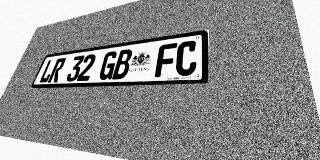2: (76, 53, 97, 81)
3: (65, 55, 85, 82)
B: (112, 49, 133, 79)
C: (174, 40, 198, 76)
F: (154, 43, 177, 77)
G: (97, 51, 119, 80)
L: (38, 59, 57, 83)
R: (47, 58, 67, 83)
